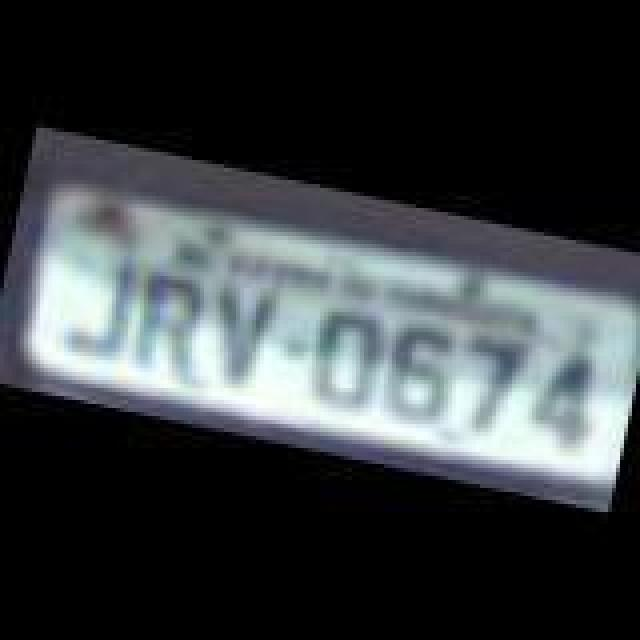4: (520, 334, 608, 450)
6: (384, 310, 464, 426)
7: (446, 324, 530, 444)
J: (52, 246, 140, 362)
O: (302, 300, 386, 412)
R: (126, 262, 210, 378)
V: (198, 276, 282, 396)
